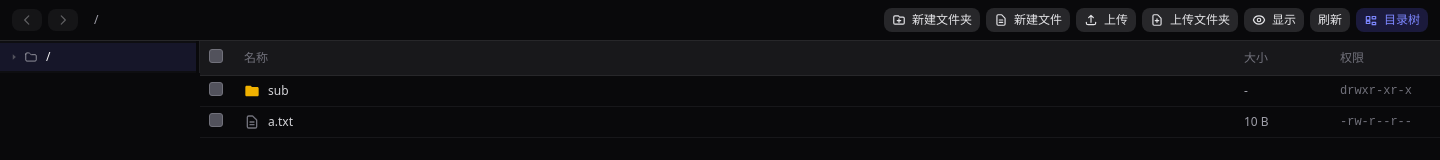
FileManagerPanel 目录记忆 › 切目录不整份保存设置，记忆写进 localStorage，重新打开从上次的目录起步
Step 1. Double-click the row "sub - drwxr-xr-x" → [820, 92], box [200,76,1439,107]
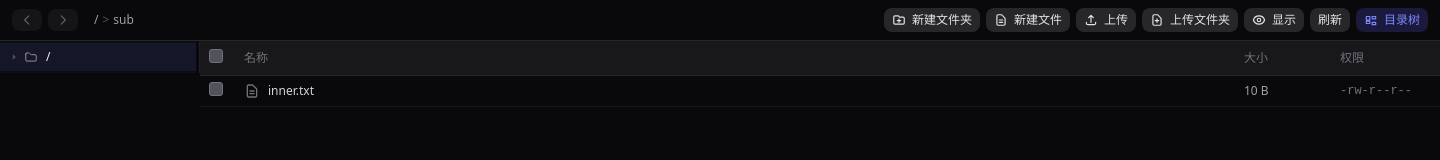
Now the text "inner.txt" is shown, box [268,83,314,99]
